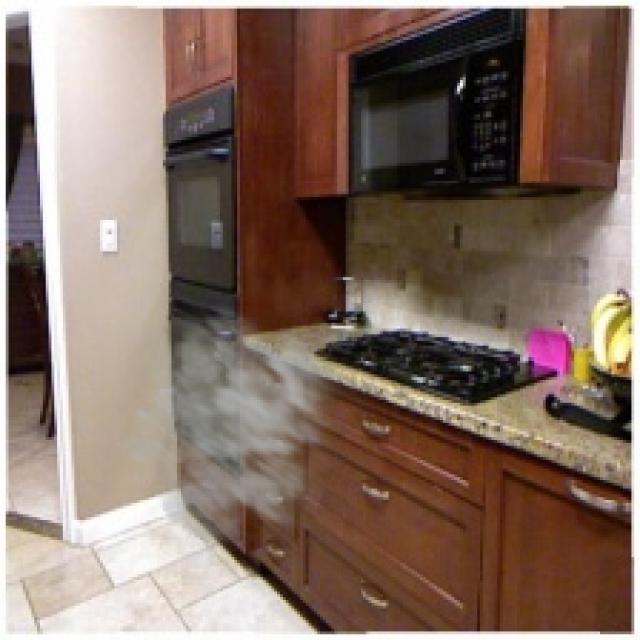smoke: (114, 294, 377, 563)
